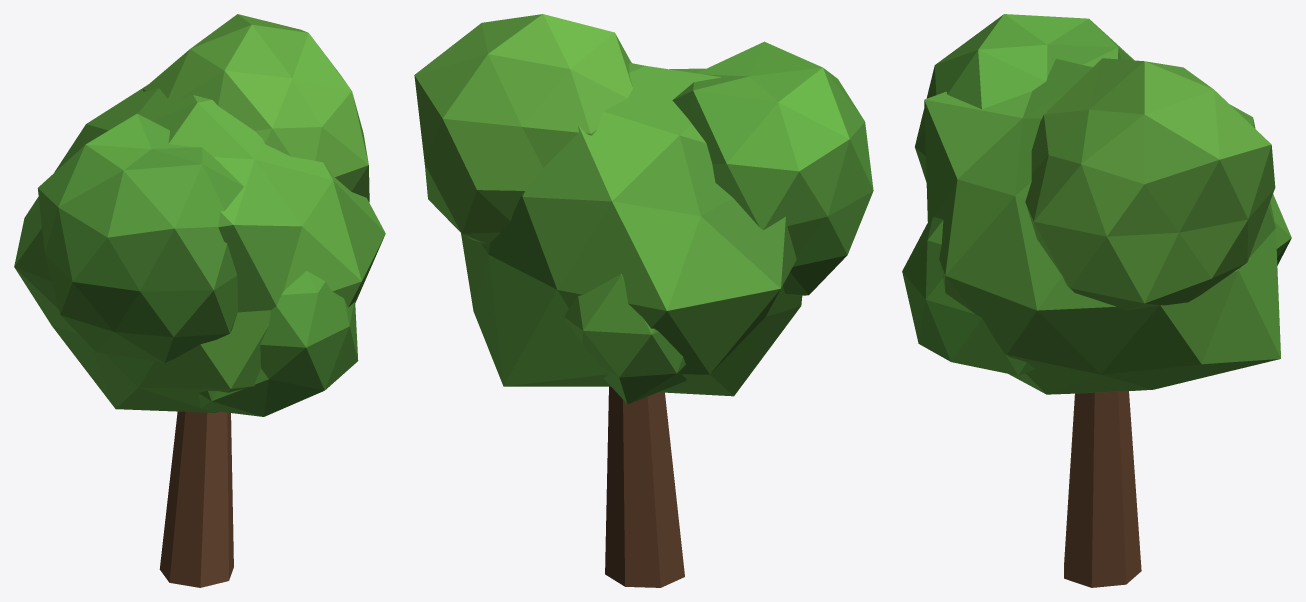
File: tree_broad_1.glb
The picture shows the model from 3 angles, left to right: view 1: azimuth 30°, elevation 25°; view 2: azimuth 150°, elevation 25°; view 3: azimuth 270°, elevation 25°; orthographic projection. The views are drawn at different scales.
Parts seen in each view (by area): view 1: tree_broad_1; view 2: tree_broad_1; view 3: tree_broad_1.
Part boxes in pixels (x1=…): tree_broad_1: x1=14, y1=14, x2=385, y2=587; tree_broad_1: x1=414, y1=14, x2=873, y2=587; tree_broad_1: x1=902, y1=14, x2=1291, y2=587.
Bounding box in the file's own units: 4.3 × 6.24 × 4.01.
